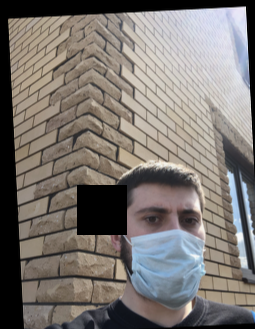with_mask: (122, 196, 205, 312)
